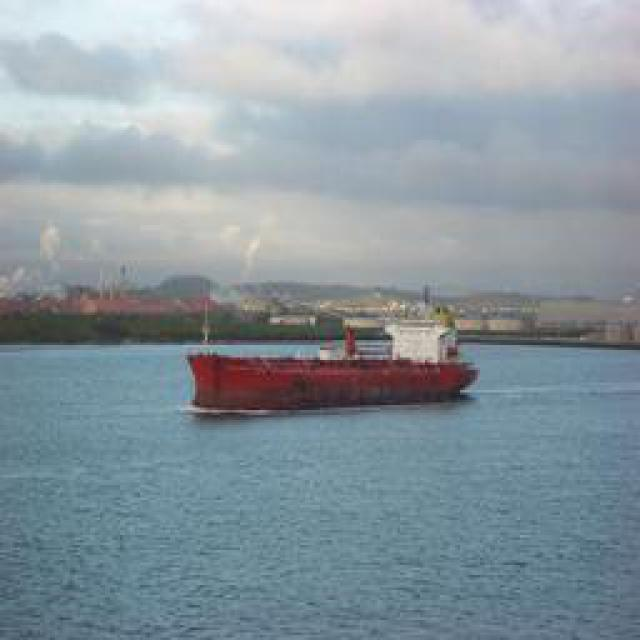Ship: (183, 322, 481, 415)
